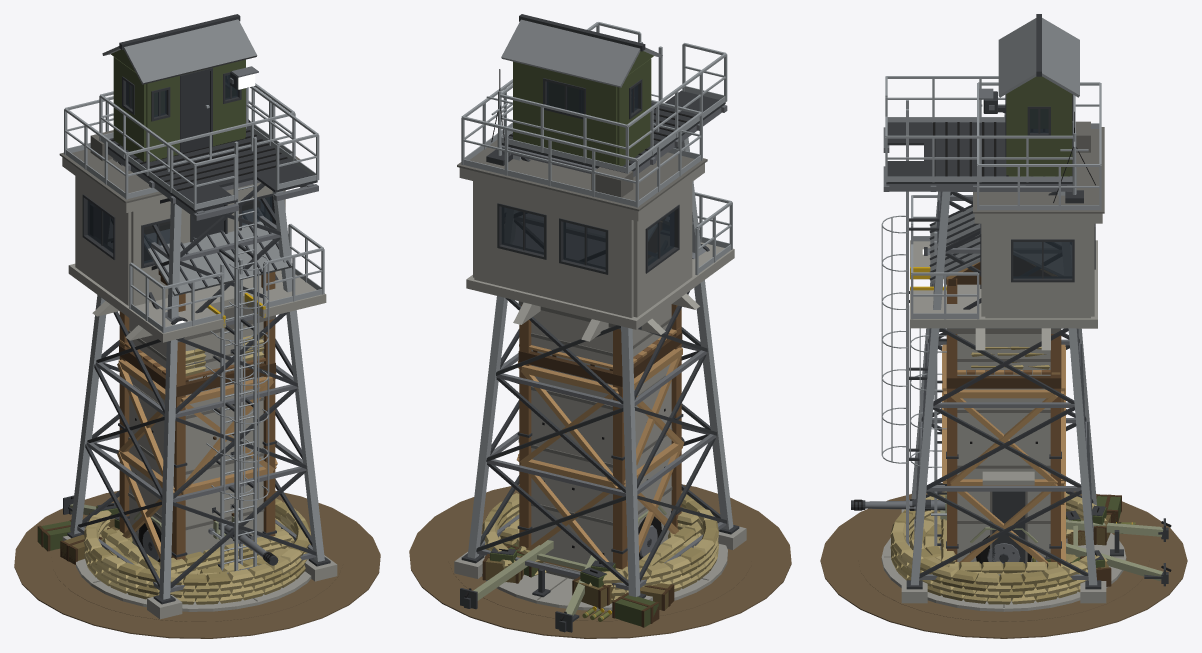
The model's file is emplace2.glb.
3 renders of one model, left to right at view 1: azimuth 30°, elevation 25°; view 2: azimuth 150°, elevation 25°; view 3: azimuth 270°, elevation 25°, orthographic. The views are drawn at different scales.
Parts seen in each view (by area): view 1: tower_guard_steel_body, tower_guard_concrete_body, tower_guard_wood_body, emp_howitzer_base, emp_aa_base, emp_mg_base, emp_flak_base, tower_guard_steel_lamp, emp_howitzer_barrel; view 2: tower_guard_concrete_body, tower_guard_steel_body, emp_howitzer_base, tower_guard_wood_body, emp_aa_base, emp_mg_base, emp_flak_base; view 3: tower_guard_steel_body, tower_guard_concrete_body, emp_howitzer_base, tower_guard_wood_body, emp_aa_base, emp_mg_base, emp_flak_base, emp_howitzer_barrel, emp_mortar_base.
Boxes of the visible parts, left/top/right/bottom form: tower_guard_steel_body: left=62, top=14, right=337, bottom=619; tower_guard_concrete_body: left=59, top=83, right=326, bottom=570; tower_guard_wood_body: left=108, top=200, right=292, bottom=560; emp_howitzer_base: left=14, top=490, right=380, bottom=638; emp_aa_base: left=51, top=498, right=343, bottom=621; emp_mg_base: left=101, top=524, right=294, bottom=573; emp_flak_base: left=102, top=516, right=290, bottom=575; tower_guard_steel_lamp: left=229, top=66, right=258, bottom=90; emp_howitzer_barrel: left=218, top=519, right=278, bottom=565; tower_guard_concrete_body: left=457, top=69, right=734, bottom=579; tower_guard_steel_body: left=454, top=14, right=746, bottom=600; emp_howitzer_base: left=409, top=484, right=791, bottom=638; tower_guard_wood_body: left=512, top=213, right=699, bottom=571; emp_aa_base: left=448, top=492, right=752, bottom=621; emp_mg_base: left=500, top=511, right=701, bottom=571; emp_flak_base: left=504, top=513, right=698, bottom=577; tower_guard_steel_body: left=881, top=14, right=1106, bottom=603; tower_guard_concrete_body: left=909, top=82, right=1104, bottom=563; emp_howitzer_base: left=820, top=491, right=1187, bottom=638; tower_guard_wood_body: left=929, top=205, right=1071, bottom=566; emp_aa_base: left=858, top=491, right=1149, bottom=621; emp_mg_base: left=941, top=497, right=1058, bottom=573; emp_flak_base: left=909, top=510, right=1085, bottom=574; emp_howitzer_barrel: left=851, top=499, right=945, bottom=510; emp_mortar_base: left=923, top=520, right=1078, bottom=573.
Size of the model in its own units: 7.8 by 12.67 by 7.8.
